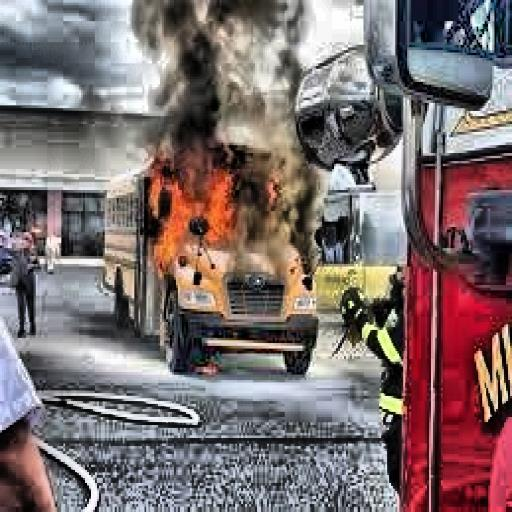fire: (144, 142, 261, 280)
